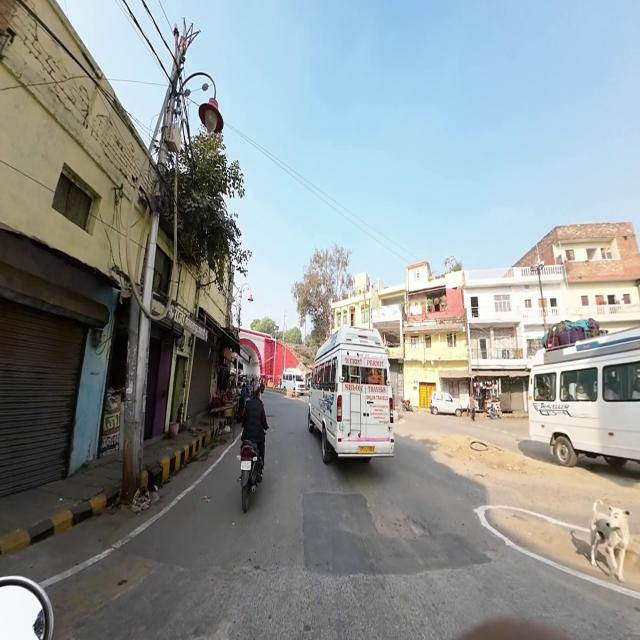Garbage: (128, 484, 166, 518)
